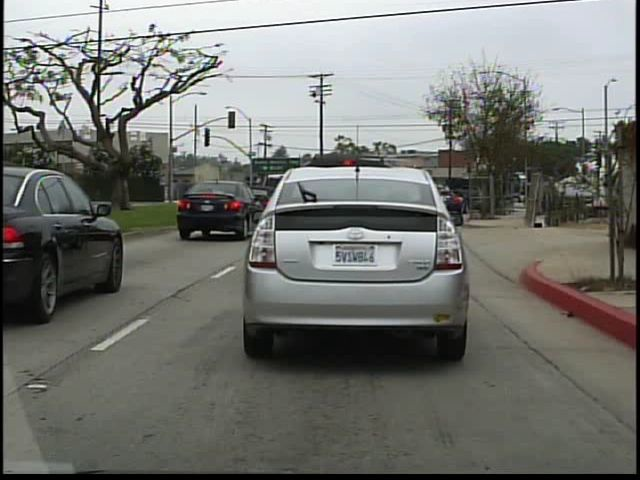person: (597, 160, 626, 251)
